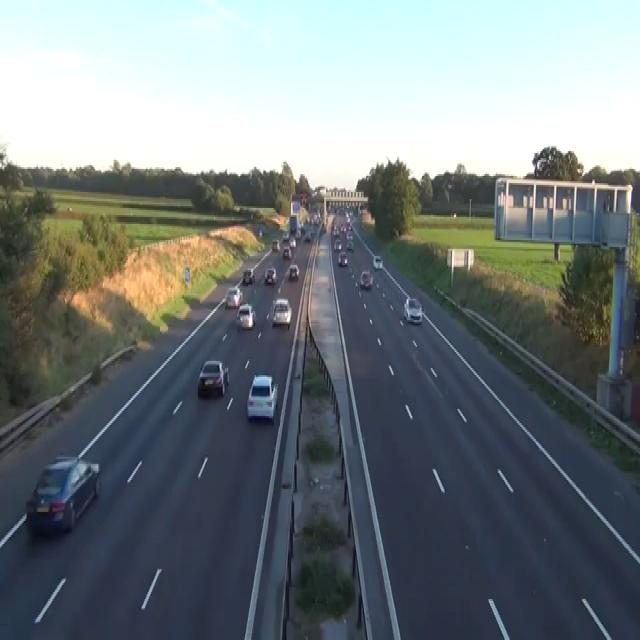Car: (25, 453, 100, 535), (246, 373, 278, 423), (197, 359, 229, 397), (271, 297, 292, 327), (235, 302, 256, 329), (403, 297, 422, 323), (225, 286, 242, 308), (359, 268, 373, 288), (265, 298, 276, 322), (264, 266, 277, 282), (243, 268, 254, 284), (289, 263, 299, 279), (337, 250, 347, 266), (373, 254, 382, 268), (282, 246, 291, 260), (333, 238, 342, 251), (272, 238, 280, 251), (346, 238, 354, 251), (304, 231, 312, 242), (281, 235, 289, 245), (340, 224, 347, 235), (289, 237, 296, 247), (332, 226, 339, 236), (257, 242, 265, 250), (282, 231, 289, 240), (295, 228, 300, 238), (322, 222, 326, 233), (451, 212, 456, 218), (259, 228, 262, 236)
